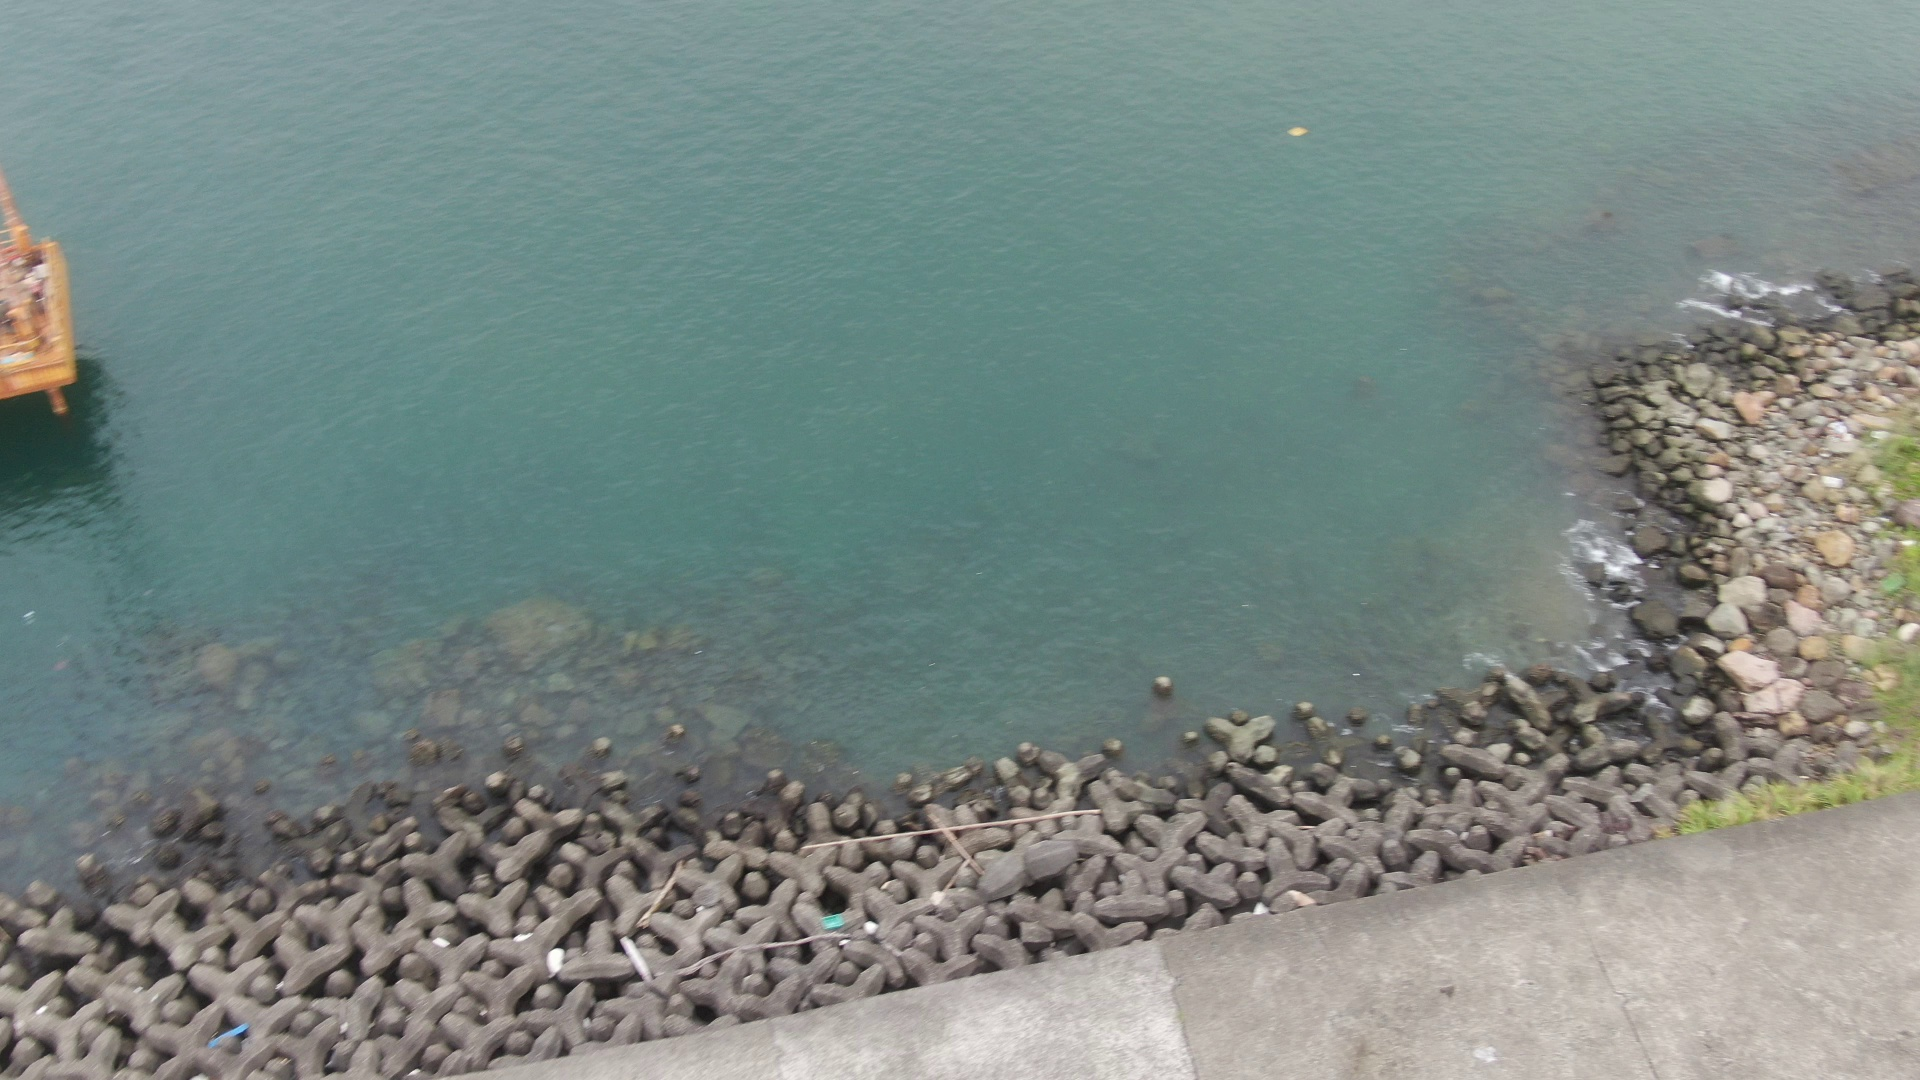garbage: (203, 1015, 264, 1054), (535, 936, 582, 985), (816, 902, 851, 936), (1280, 119, 1316, 145)
